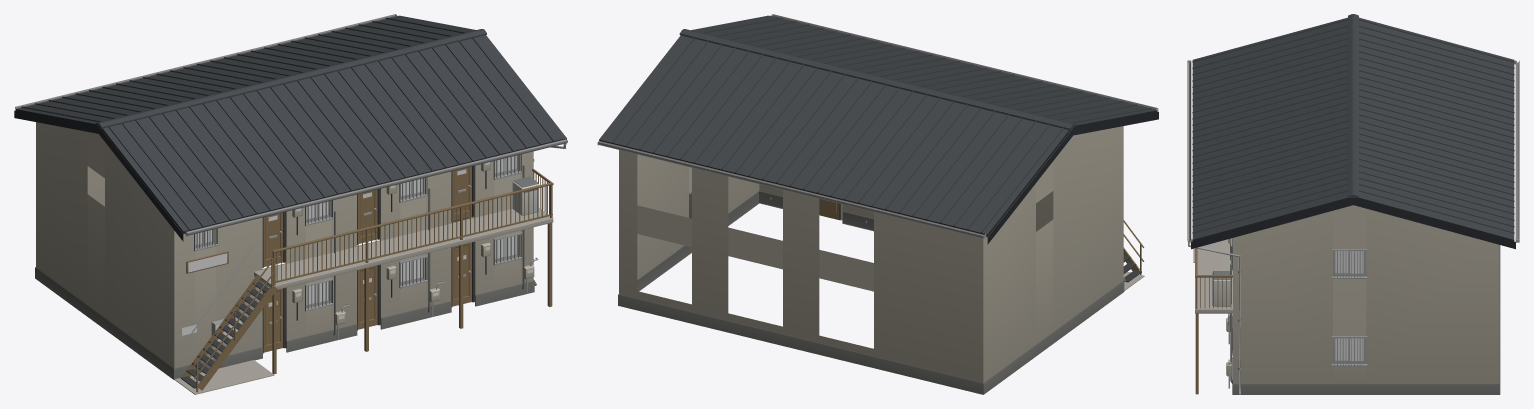
File: ApartmentKM.fbx
The picture shows the model from 3 angles, left to right: view 1: azimuth 30°, elevation 25°; view 2: azimuth 150°, elevation 25°; view 3: azimuth 270°, elevation 25°; orthographic projection. The views are drawn at different scales.
Visible parts, largest first — view 1: ApartmentKM; view 2: ApartmentKM; view 3: ApartmentKM.
Part boxes in pixels (x1,y1,x2,y2): ApartmentKM: (14, 14, 567, 394); ApartmentKM: (597, 14, 1158, 394); ApartmentKM: (1187, 14, 1519, 394).
Size of the model in its own units: 12.87 by 6.82 by 9.98.
